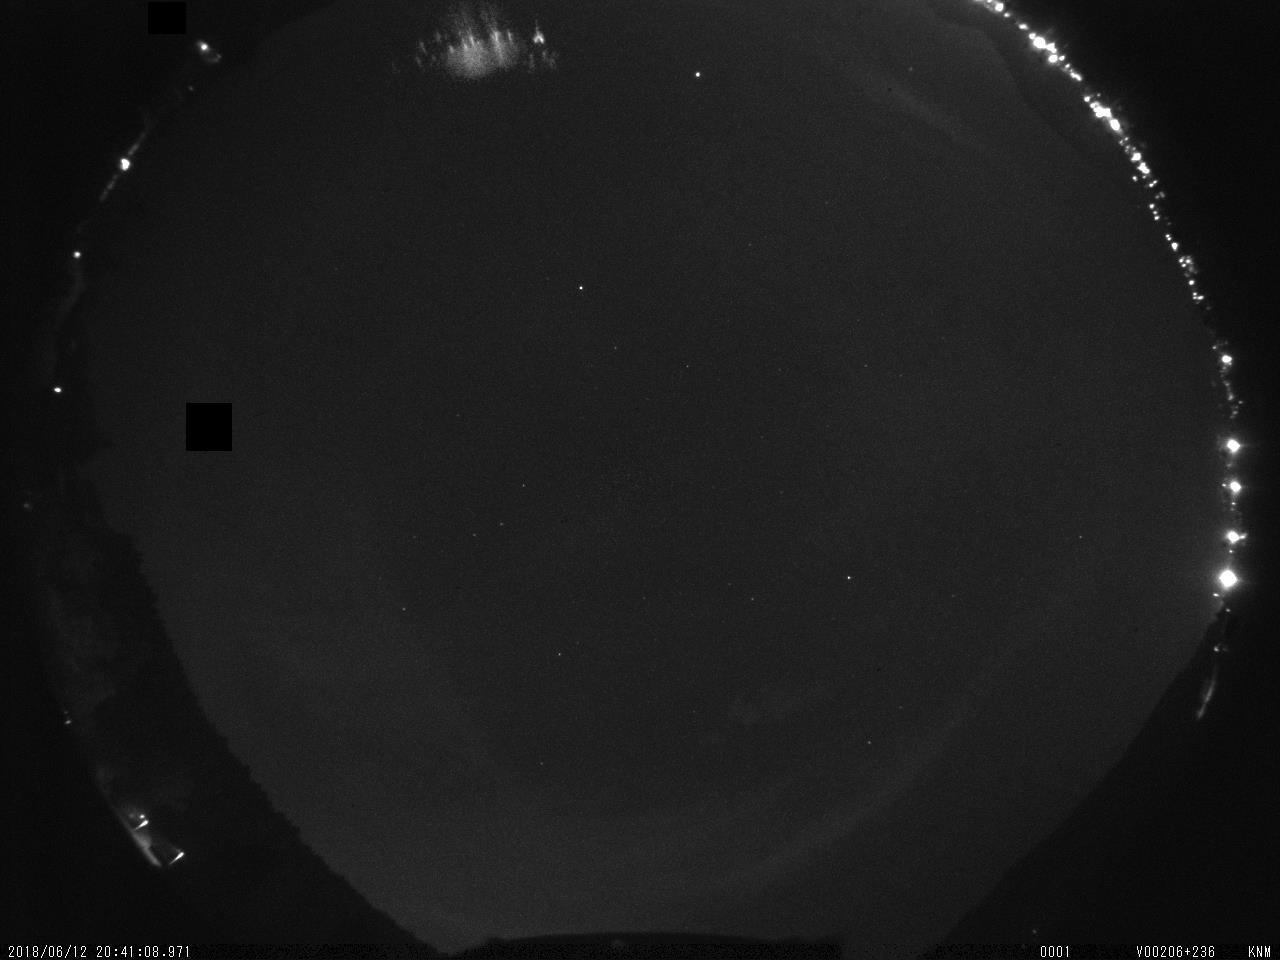TLE: (365, 0, 598, 99)
